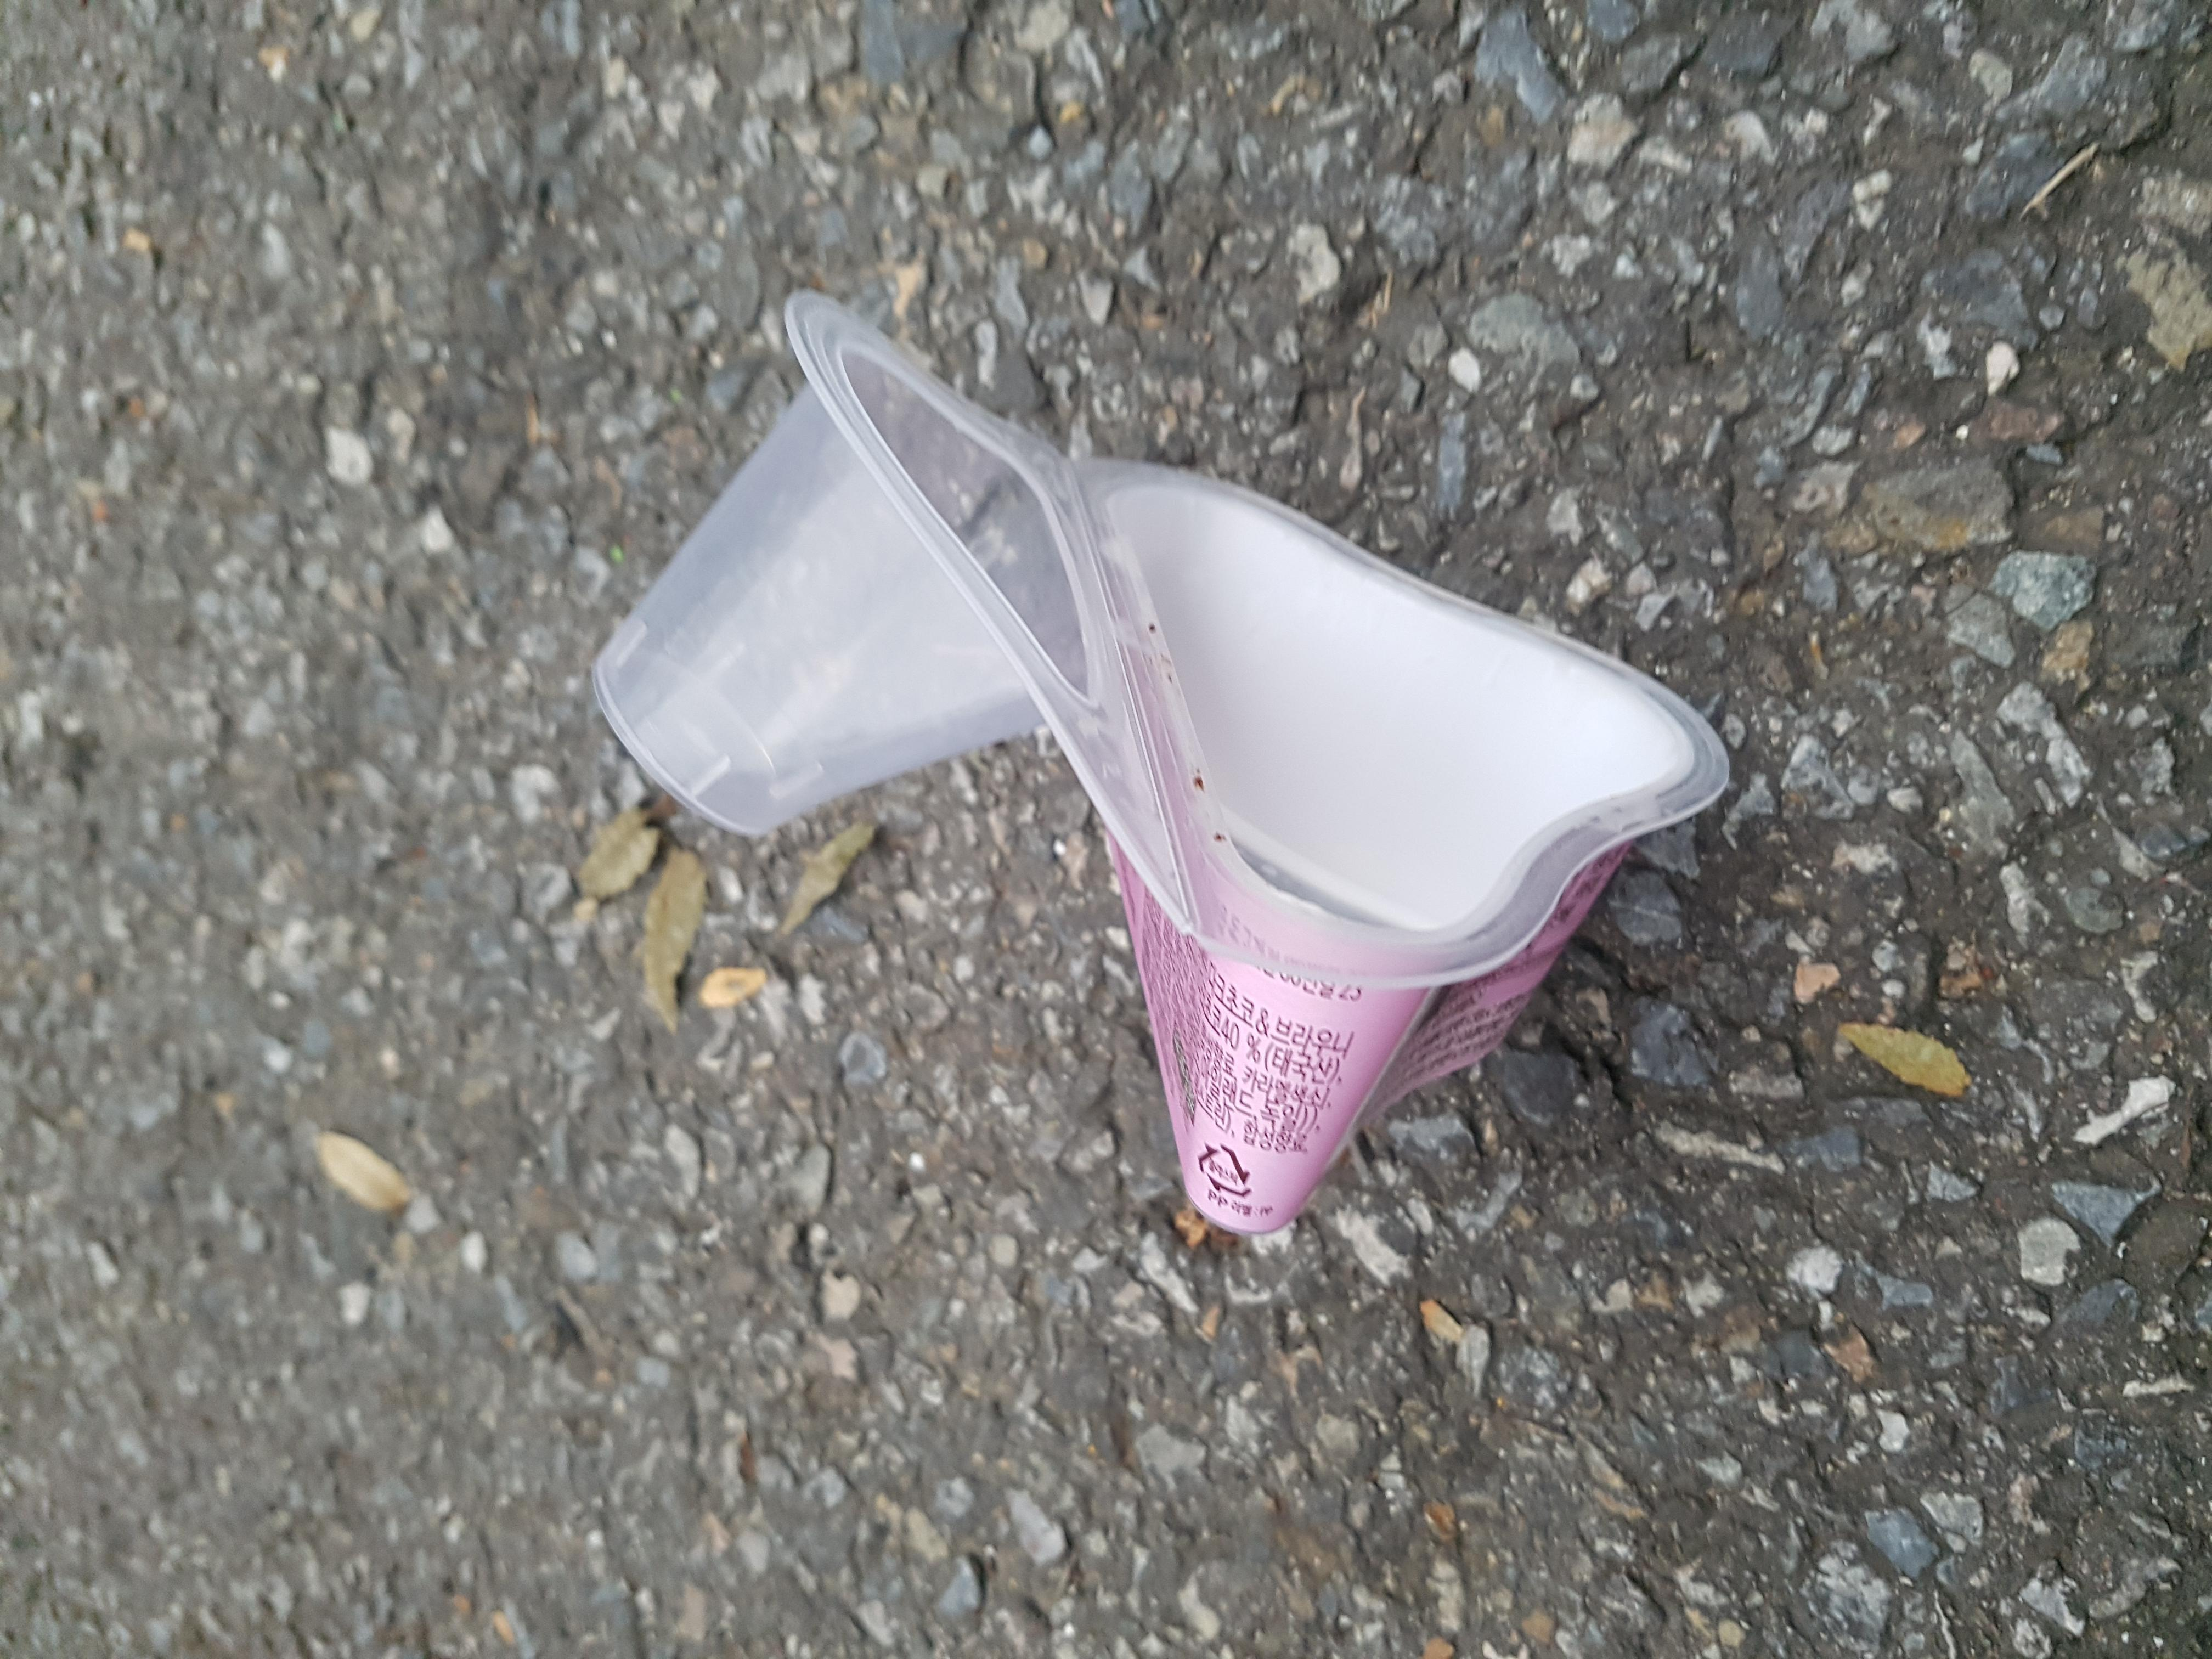bottle: (448, 455, 1902, 1284)
